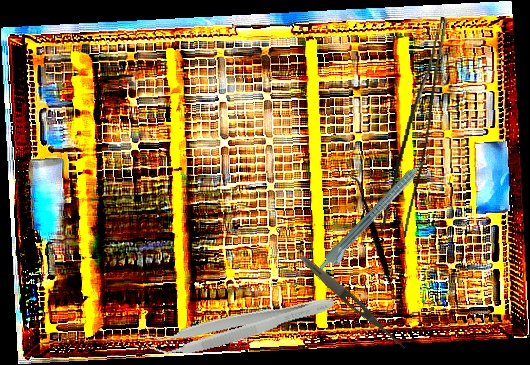Dressing Forceps: (296, 252, 410, 352)
Handpiece: (316, 151, 439, 277)
Spatula Surgical: (304, 173, 447, 308)
Tissue Forceps: (143, 283, 337, 365), (380, 12, 448, 240)
